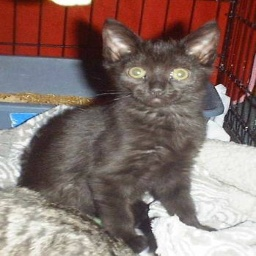cat: (10, 22, 221, 241)
